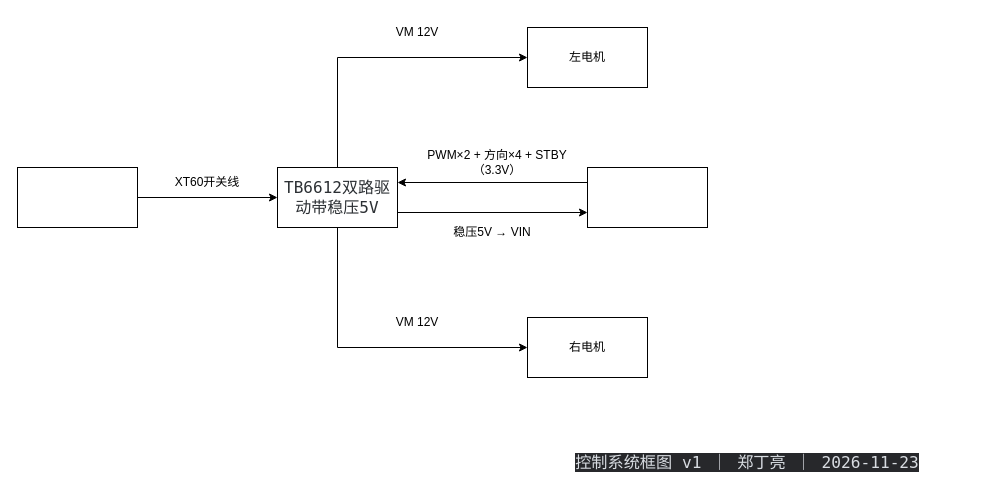
Some shapes in this 995 by 494 pixel diagram are drawn without their labels. The shapes that lost their labels are listed below. From the top down, each one's box as (x1, y1, x2, y2) in pixels, then its label:
(16, 166, 138, 228): 3S锂电池11.1v
(586, 166, 708, 228): ESP32 主控板
